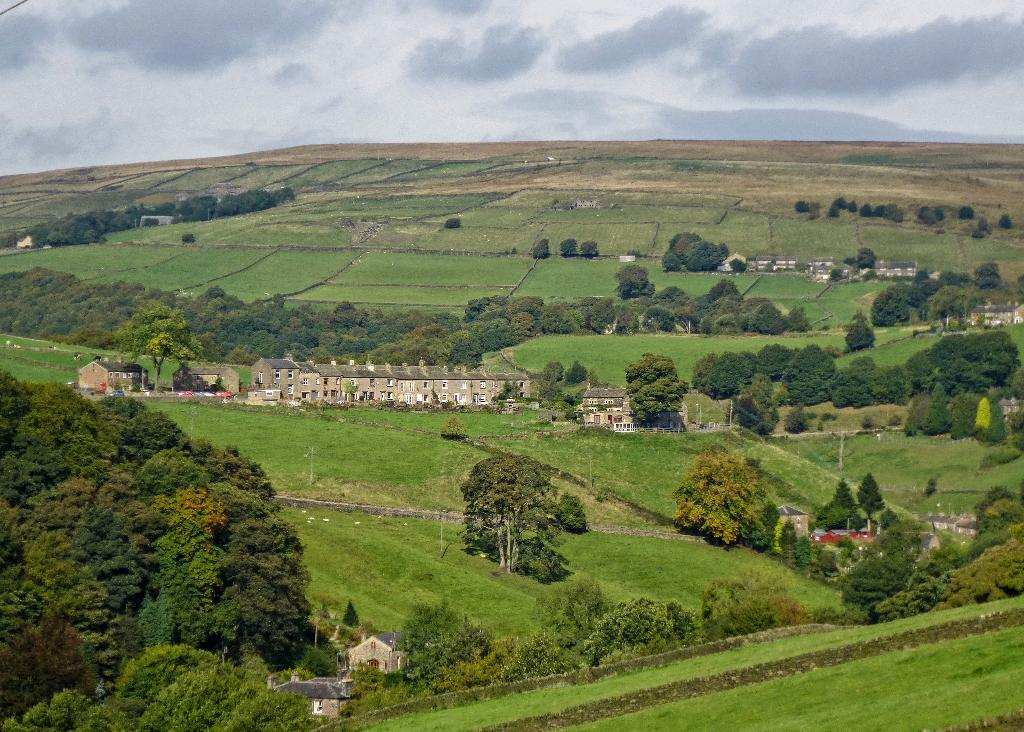Tree: (0, 371, 315, 717), (0, 263, 814, 364), (338, 574, 808, 717), (773, 469, 1023, 622), (0, 644, 313, 731), (693, 333, 1018, 412), (454, 434, 592, 579), (1, 185, 294, 250), (670, 439, 766, 552), (866, 267, 1022, 328), (117, 300, 200, 380), (908, 383, 1015, 443), (620, 354, 688, 422), (657, 226, 730, 274), (531, 358, 597, 407), (727, 384, 779, 440), (616, 262, 663, 300), (842, 318, 881, 354), (580, 238, 598, 258), (533, 238, 549, 259), (561, 235, 577, 254)
